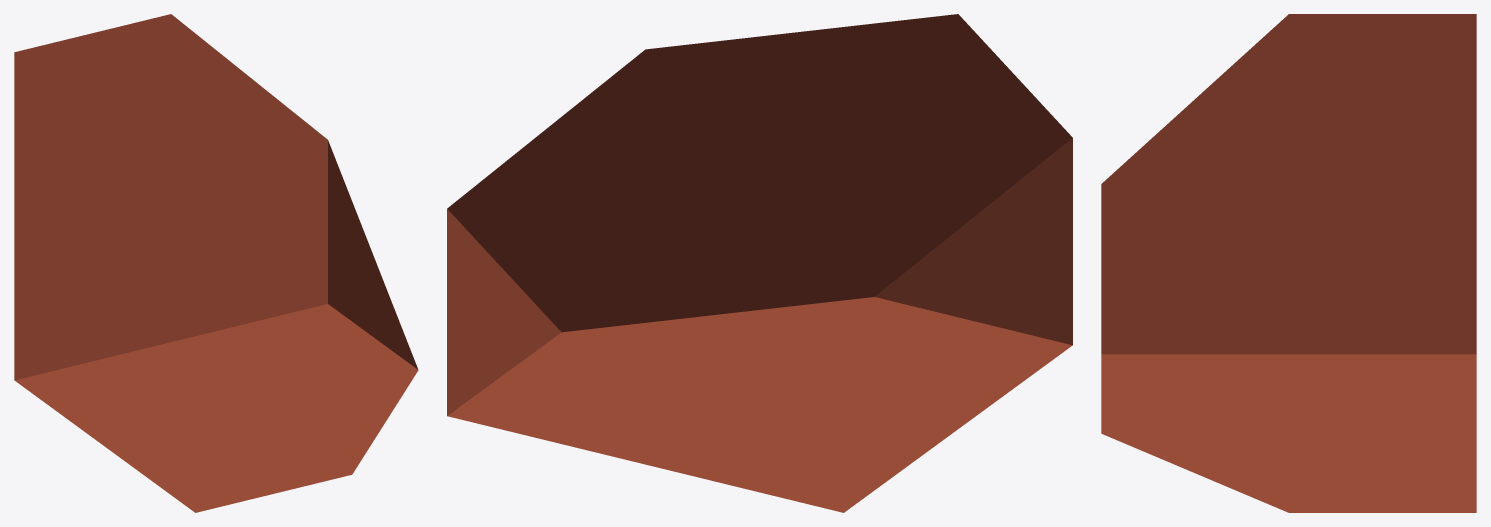
The model's file is r5c7_border_brown.gltf.
3 renders of one model, left to right at view 1: azimuth 30°, elevation 25°; view 2: azimuth 150°, elevation 25°; view 3: azimuth 270°, elevation 25°, orthographic. The views are drawn at different scales.
Parts seen in each view (by area): view 1: r5c7_border_brown; view 2: r5c7_border_brown; view 3: r5c7_border_brown.
Part boxes in pixels (box(x1,y1,x2,y2)): r5c7_border_brown: box(14, 14, 418, 512); r5c7_border_brown: box(447, 14, 1072, 512); r5c7_border_brown: box(1101, 14, 1476, 512).
Bounding box in the file's own units: 2.1 × 2.1 × 2.1.
Materials: 1 (1 with a texture image).
